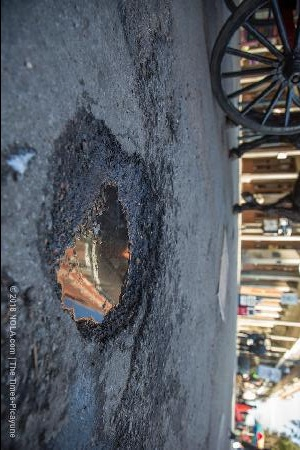pothole: (37, 101, 168, 346)
